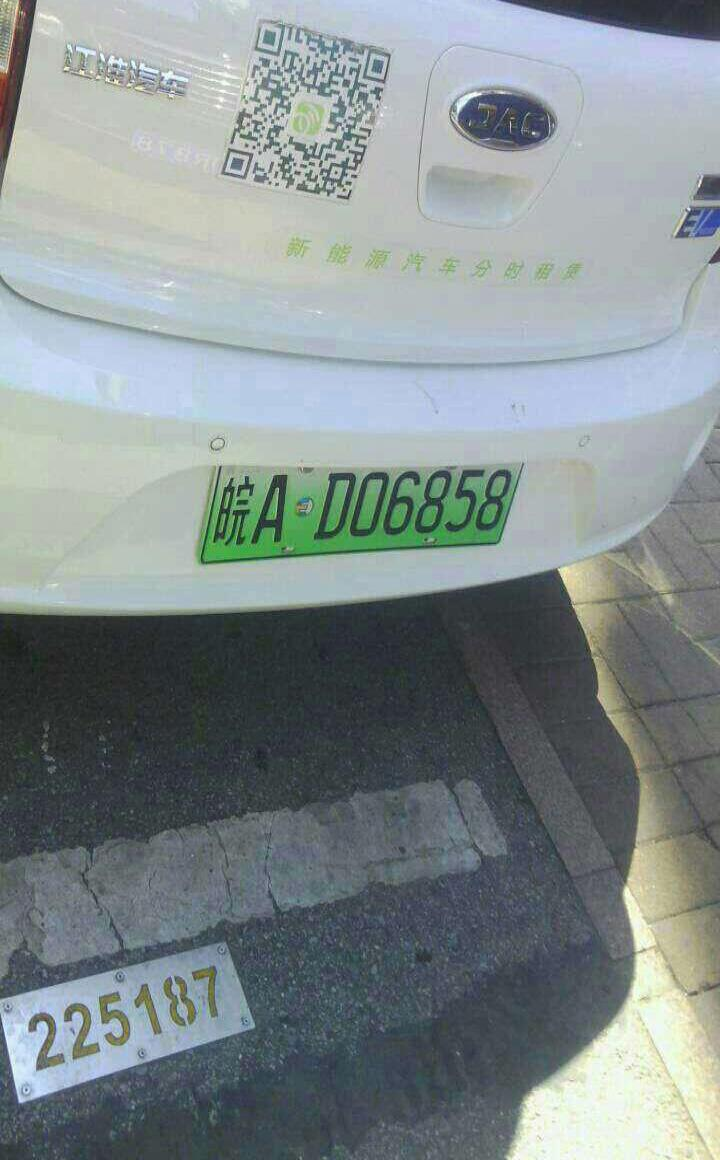car: (200, 455, 528, 550)
